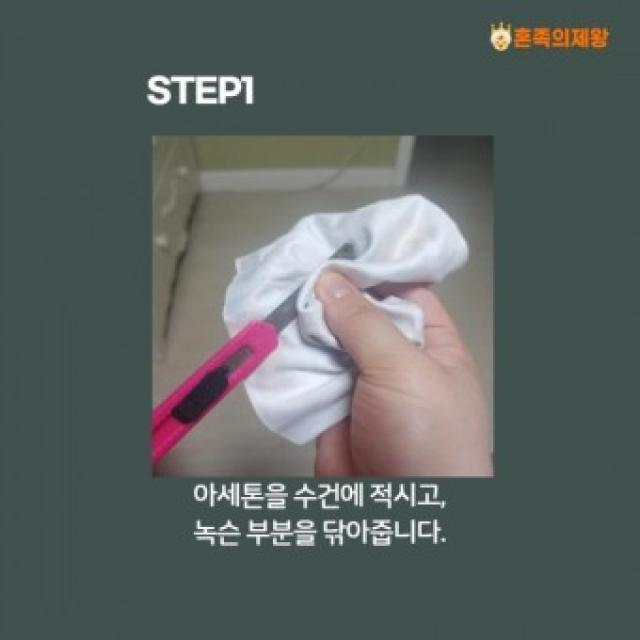cutter: (151, 241, 342, 464)
